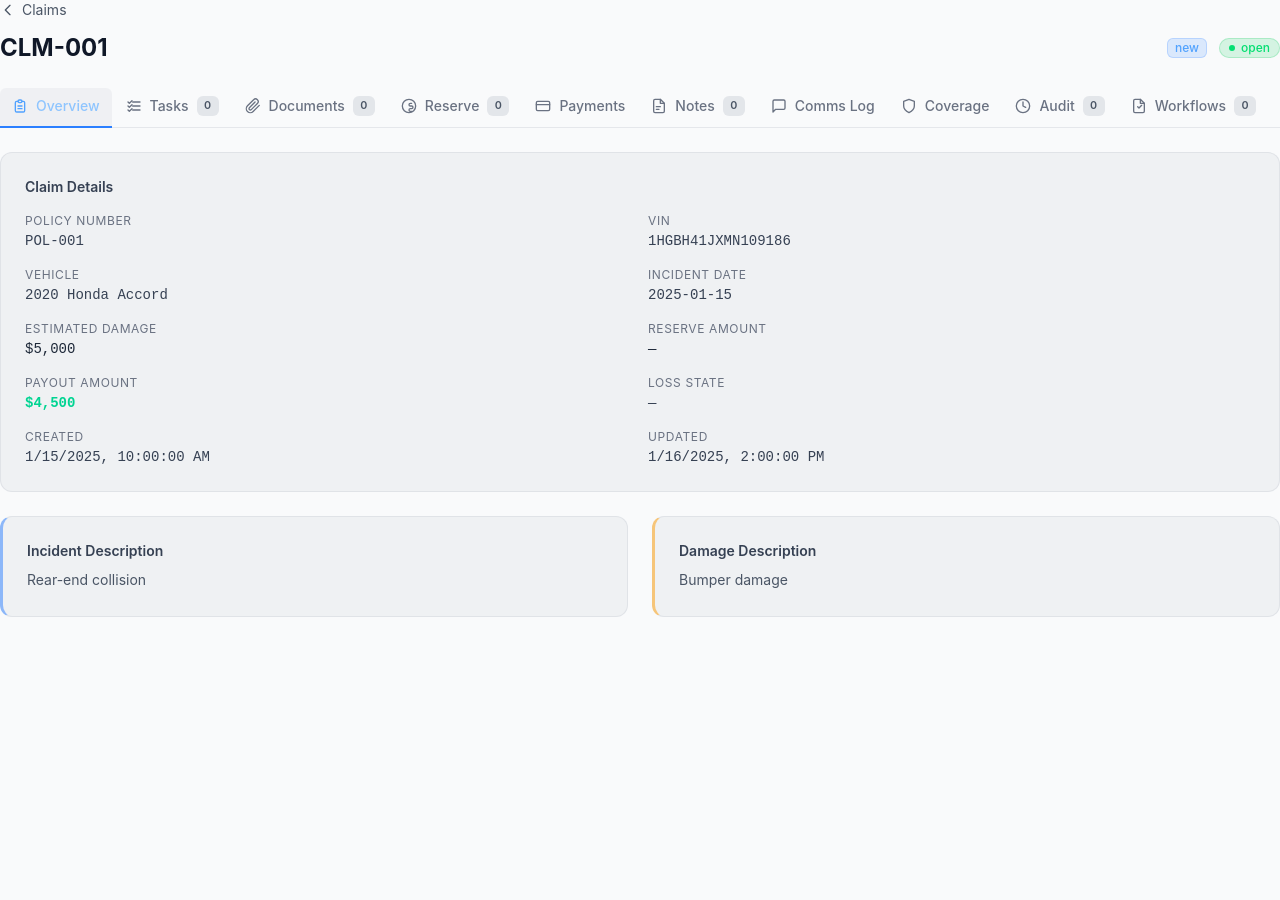
Test: ClaimDetail › switches to notes tab and shows add note form
Step 1. Click the tab "Notes 0" → click(698, 108), box [639,88,757,128]
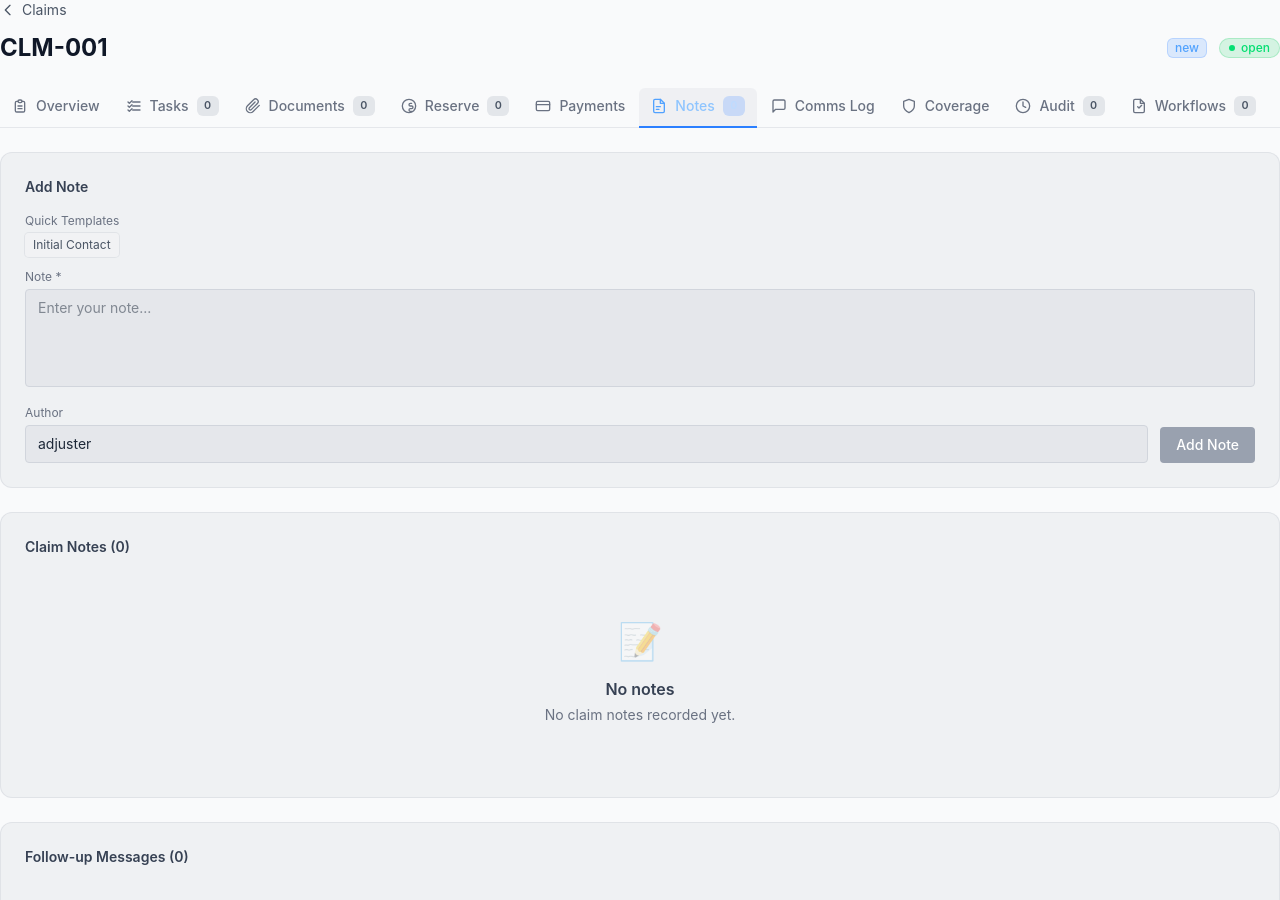
Expected: the text "Quick Templates" is shown, [25,213,120,228]
Expected: the text box with placeholder "Enter your note..." is shown, [25,289,1255,387]
